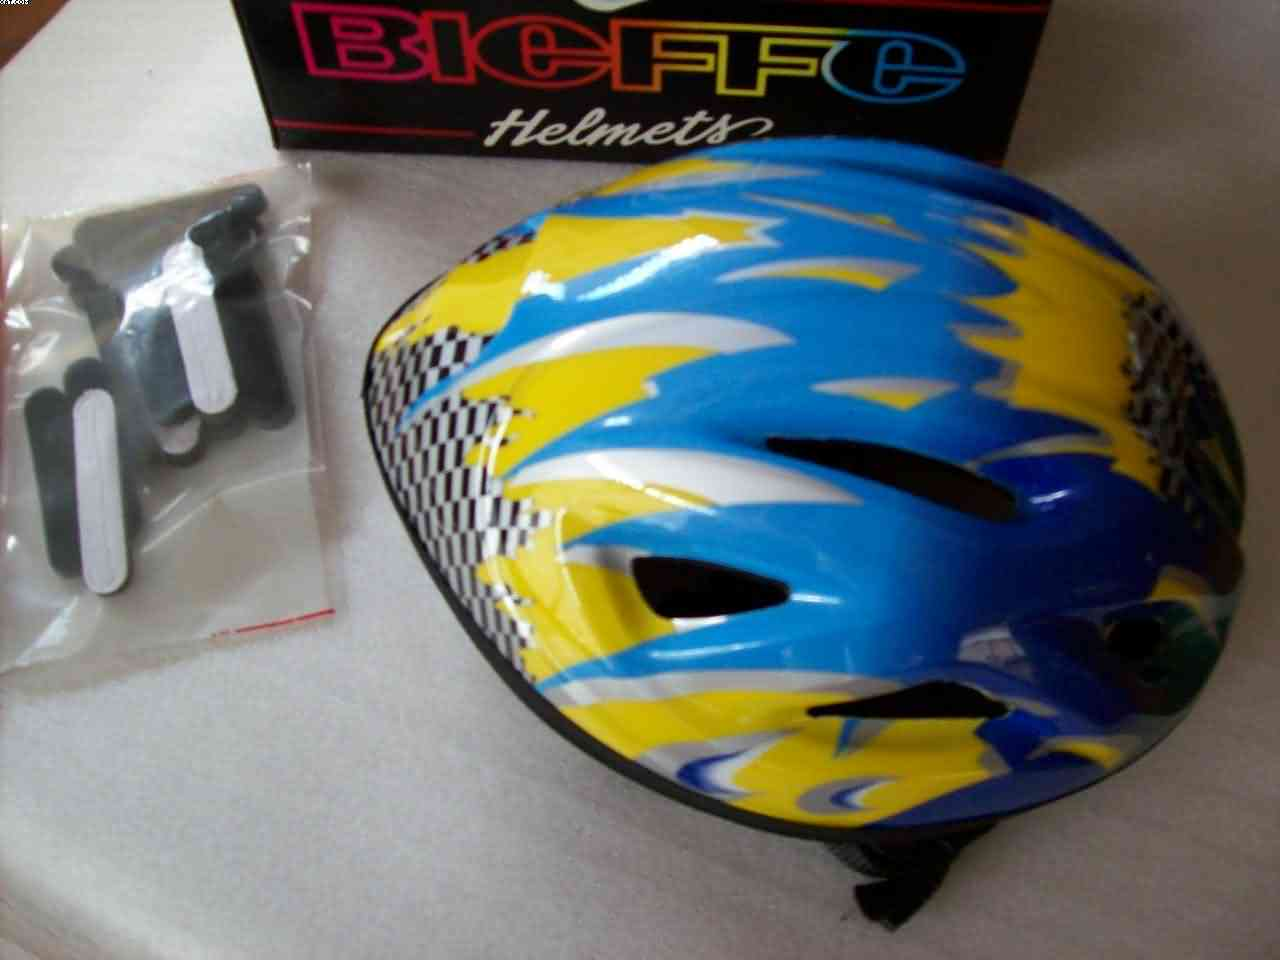helmet: (389, 158, 1258, 827)
